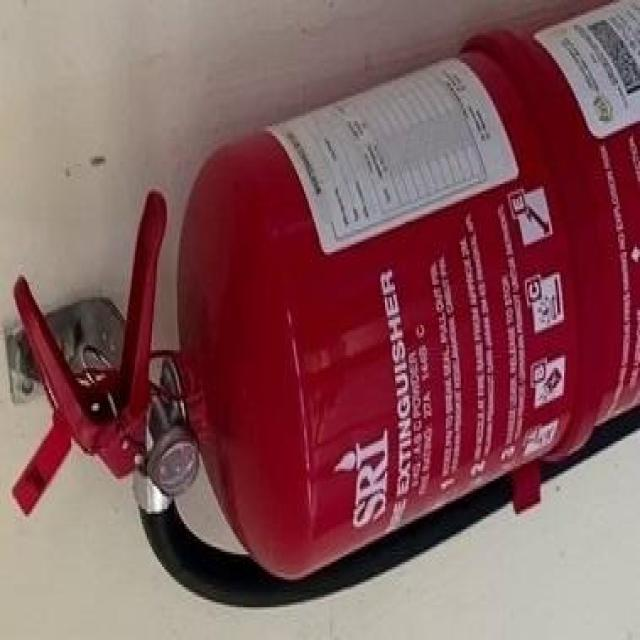fire_extinguisher: (10, 0, 638, 612)
